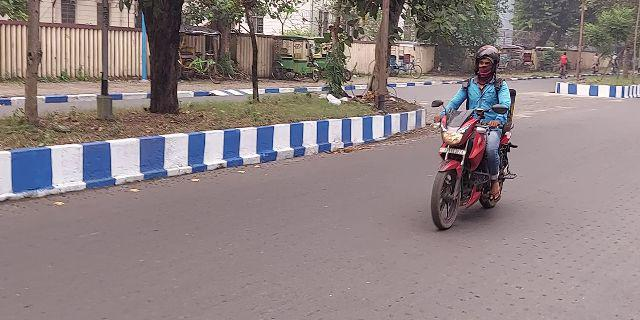Motorbike: (424, 42, 528, 233)
